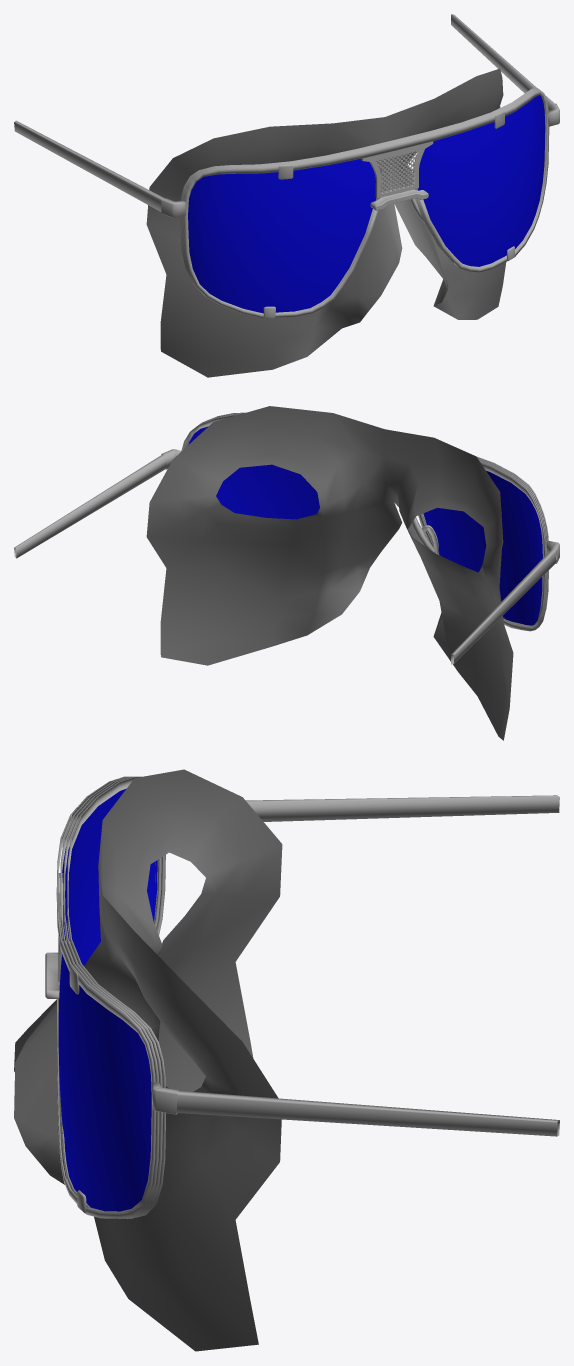
Rendered from glasses_Playgendary.fbx.
3 renders of one model, top to bottom at view 1: azimuth 30°, elevation 25°; view 2: azimuth 150°, elevation 25°; view 3: azimuth 270°, elevation 25°, orthographic. The views are drawn at different scales.
Parts seen in each view (by area): view 1: glasses_Playgendary, geo_shadow; view 2: geo_shadow, glasses_Playgendary; view 3: geo_shadow, glasses_Playgendary.
Part boxes in pixels (x1,y1,x2,y2): glasses_Playgendary: [14, 14, 559, 318]; geo_shadow: [146, 68, 506, 377]; geo_shadow: [146, 406, 513, 740]; glasses_Playgendary: [14, 412, 559, 664]; geo_shadow: [14, 769, 282, 1351]; glasses_Playgendary: [45, 776, 559, 1218].
Size of the model in its own units: 166 by 91.94 by 117.
